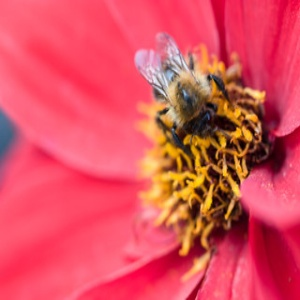bee: (135, 30, 232, 162)
